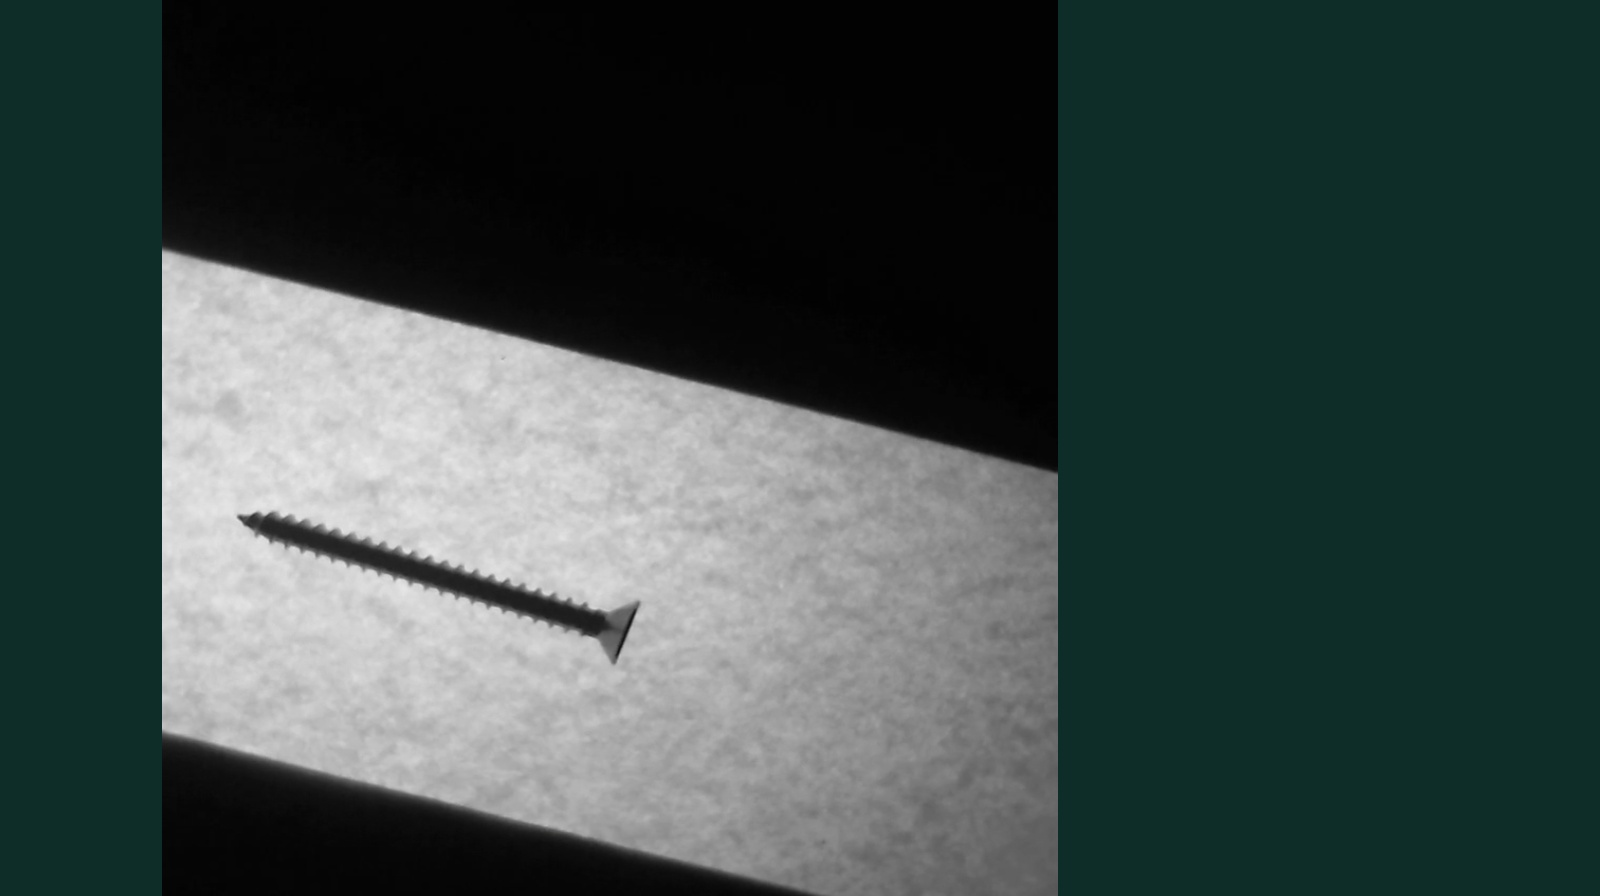S002: (211, 484, 652, 677)
